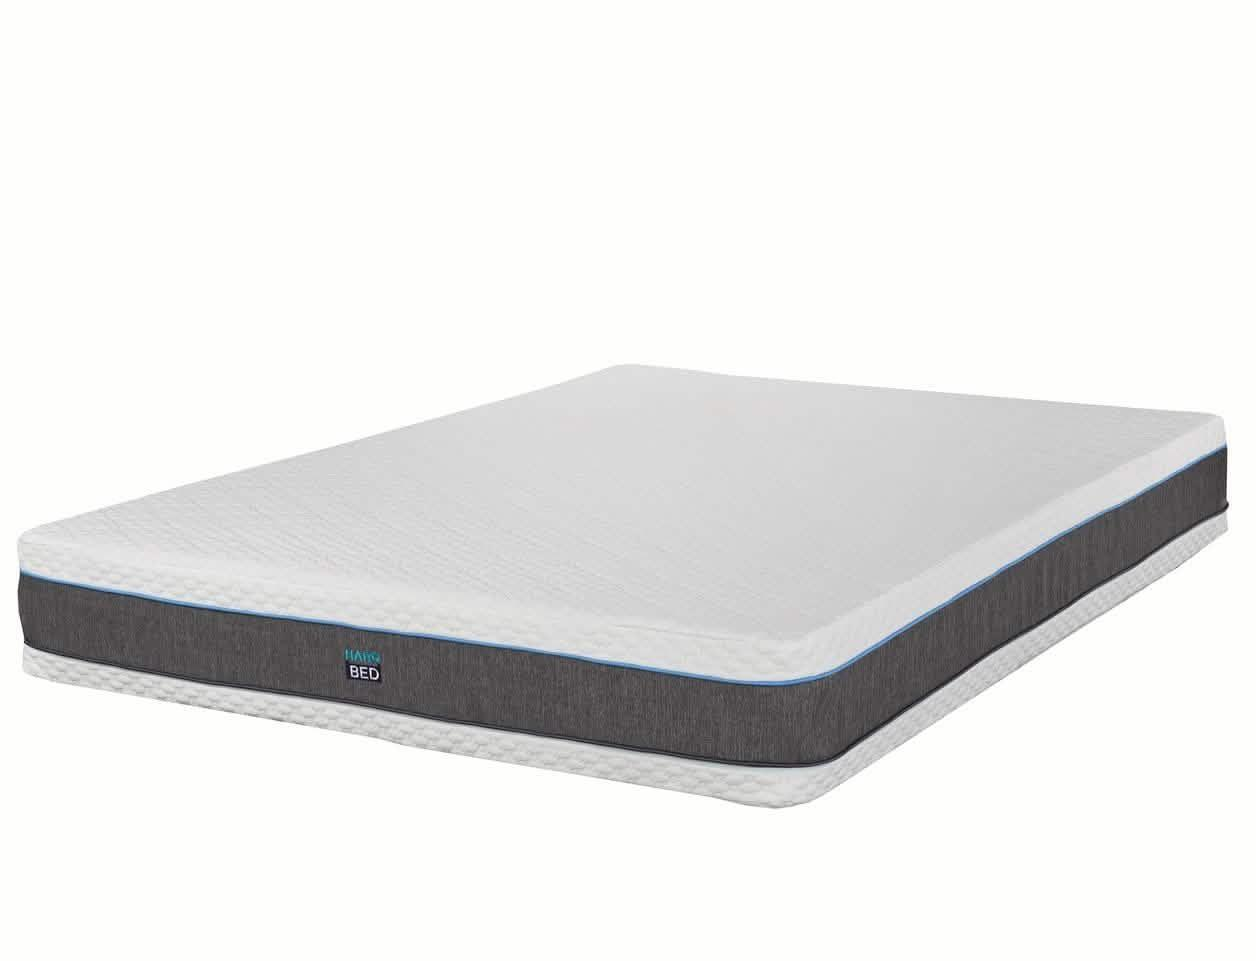Bed-Mattress: (13, 357, 1234, 813)
